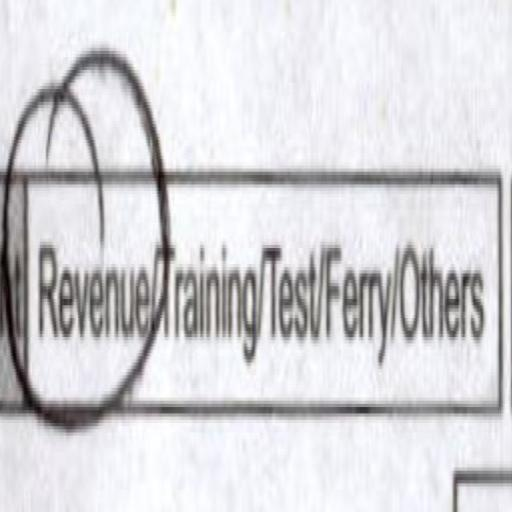check: (15, 41, 155, 437)
